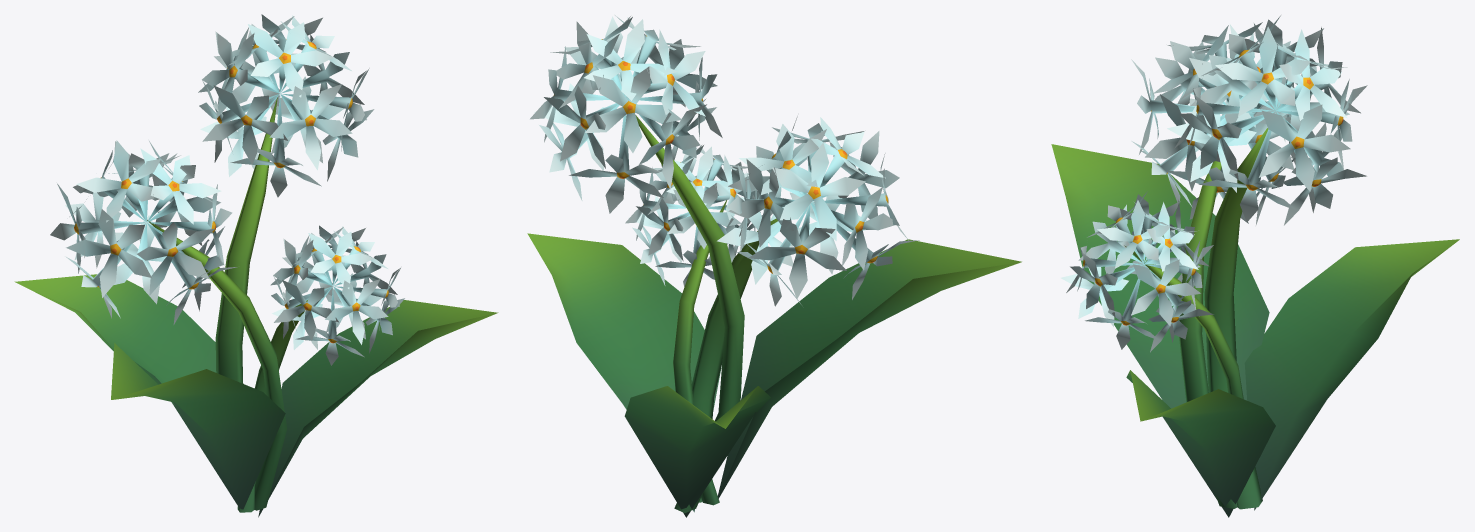
File: Flower_030.fbx
3 renders of one model, left to right at view 1: azimuth 30°, elevation 25°; view 2: azimuth 150°, elevation 25°; view 3: azimuth 270°, elevation 25°, orthographic. The views are drawn at different scales.
Visible parts, largest first — view 1: Flower.030; view 2: Flower.030; view 3: Flower.030.
Boxes of the visible parts, <box> form: Flower.030: <box>14,14,498,517</box>; Flower.030: <box>527,15,1021,517</box>; Flower.030: <box>1051,15,1459,517</box>.
Bounding box in the file's own units: 2.45 × 2.58 × 1.87.
